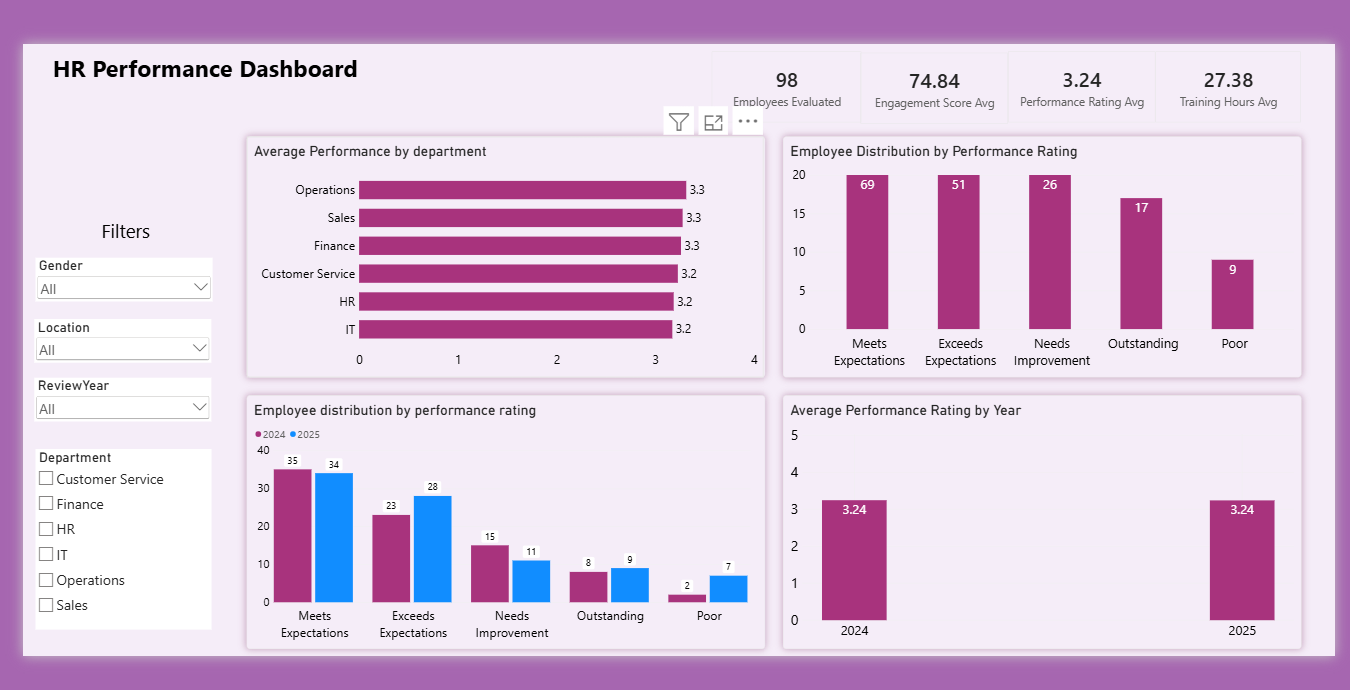

Layout of this report page (visuals, bound fields, positions):
{"tool":"powerbi","page":{"name":"Performance Dashboard","canvas":[3000,1400],"ordinal":2},"visuals":[{"type":"textbox","box":[25,17.5,967.5,87.5],"z":0},{"type":"cardVisual","fields":{"Data":["Avg(tblPerformance.TrainingHours)"]},"box":[2590,17.5,332.5,162.5],"z":1000},{"type":"cardVisual","fields":{"Data":["Performance KPI.Employees Evaluated"]},"box":[1575,17.5,342.5,162.5],"z":2000},{"type":"textbox","box":[137.5,397.5,184,60],"z":3000},{"type":"clusteredBarChart","title":"Average Performance by department","fields":{"Category":["tblEmployees.Department"],"Y":["Performance KPI.Average Performance Rating"]},"box":[510,212.5,1185,550],"z":4000},{"type":"clusteredColumnChart","title":"Employee distribution by performance rating","fields":{"Category":["tblPerformance.Rating Interpretation"],"Series":["tblPerformance.ReviewYear"],"Y":["Count(tblPerformance.EmployeeID)"]},"box":[510,802.5,1185,580],"z":5000},{"type":"slicer","fields":{"Values":["tblEmployees.Gender"]},"box":[27.5,487.5,405,100],"z":6000},{"type":"slicer","fields":{"Values":["tblEmployees.Location"]},"box":[25,627.5,405,100],"z":7000},{"type":"slicer","fields":{"Values":["tblPerformance.ReviewYear"]},"box":[25,762.5,405,100],"z":8000},{"type":"slicer","fields":{"Values":["tblEmployees.Department"]},"box":[27.5,925,402.5,412.5],"z":9000},{"type":"clusteredColumnChart","title":"Employee Distribution by Performance Rating","fields":{"Category":["tblPerformance.Rating Interpretation"],"Y":["CountNonNull(tblPerformance.ReviewID)"]},"box":[1737.5,212.5,1185,550],"z":10000},{"type":"cardVisual","fields":{"Data":["Avg(tblPerformance.PerformanceRating)"]},"box":[2252.5,17.5,337.5,162.5],"z":11000},{"type":"cardVisual","fields":{"Data":["Avg(tblPerformance.EngagementScore)"]},"box":[1915,20,337.5,162.5],"z":12000},{"type":"clusteredColumnChart","title":"Average Performance Rating by Year","fields":{"Category":["tblPerformance.ReviewYear"],"Y":["Avg(tblPerformance.PerformanceRating)"]},"box":[1737.5,802.5,1185,580],"z":13000}]}

Visuals, with their boxes on the page's 3000x1400 design canvas (x1, y1, x2, y2). These are canvas units, not pixel positions in the 1350x690 screenshot, which may show the page scaled, cropped or inside an application window:
textbox: region(25, 18, 992, 105)
cardVisual - Avg(tblPerformance.TrainingHours): region(2590, 18, 2922, 180)
cardVisual - Performance KPI.Employees Evaluated: region(1575, 18, 1918, 180)
textbox: region(138, 398, 322, 458)
"Average Performance by department" clusteredBarChart: region(510, 212, 1695, 762)
"Employee distribution by performance rating" clusteredColumnChart: region(510, 802, 1695, 1382)
slicer - tblEmployees.Gender: region(28, 488, 432, 588)
slicer - tblEmployees.Location: region(25, 628, 430, 728)
slicer - tblPerformance.ReviewYear: region(25, 762, 430, 862)
slicer - tblEmployees.Department: region(28, 925, 430, 1338)
"Employee Distribution by Performance Rating" clusteredColumnChart: region(1738, 212, 2922, 762)
cardVisual - Avg(tblPerformance.PerformanceRating): region(2252, 18, 2590, 180)
cardVisual - Avg(tblPerformance.EngagementScore): region(1915, 20, 2252, 182)
"Average Performance Rating by Year" clusteredColumnChart: region(1738, 802, 2922, 1382)
